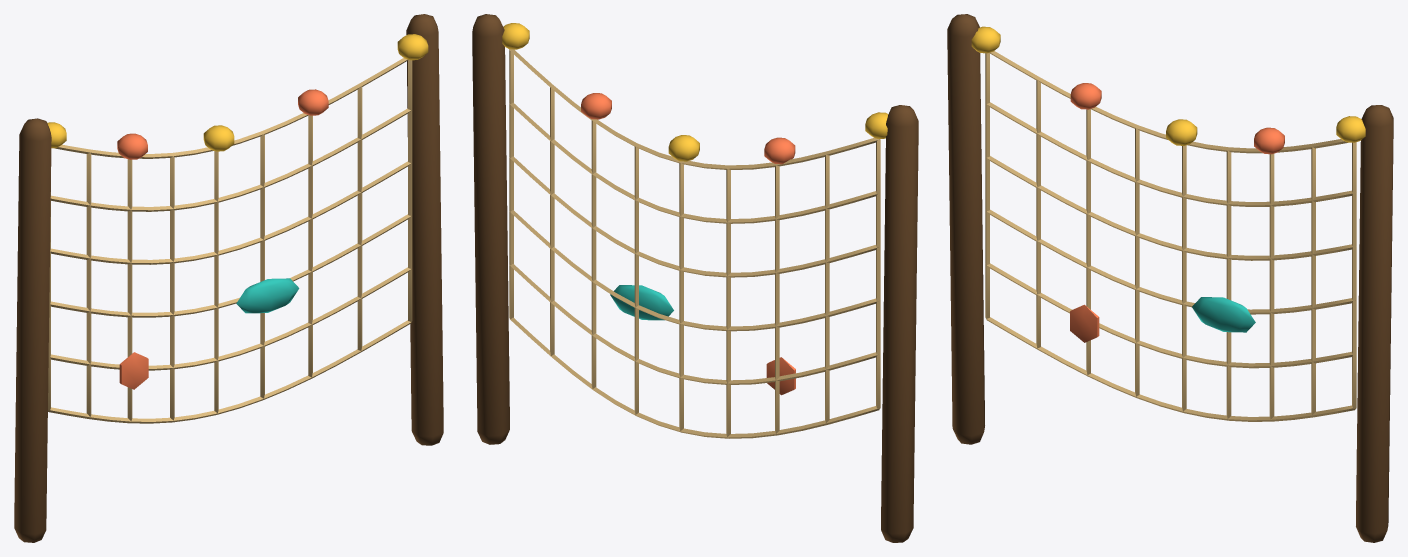
Rendered from W2_Net.fbx.
3 renders of one model, left to right at view 1: azimuth 30°, elevation 25°; view 2: azimuth 150°, elevation 25°; view 3: azimuth 330°, elevation 25°, orthographic.
Parts seen in each view (by area): view 1: W2_Net; view 2: W2_Net; view 3: W2_Net.
Boxes of the visible parts, x1=… form: W2_Net: x1=14, y1=14, x2=443, y2=542; W2_Net: x1=472, y1=14, x2=918, y2=542; W2_Net: x1=947, y1=14, x2=1393, y2=542.
Bounding box in the file's own units: 4.7 × 4.52 × 0.6081.
